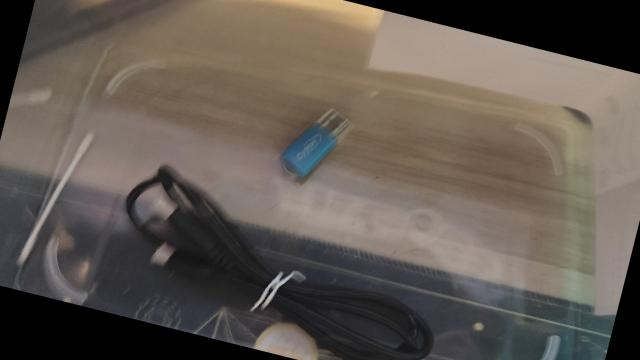hdmi_cable: (87, 152, 466, 360)
sdcard_reader: (275, 111, 343, 185)
